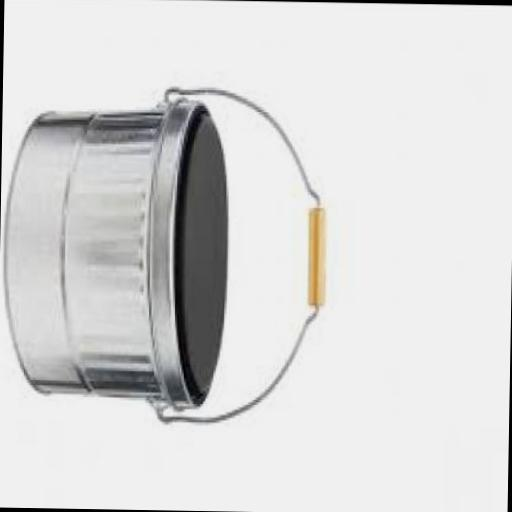metal: (2, 85, 328, 426)
